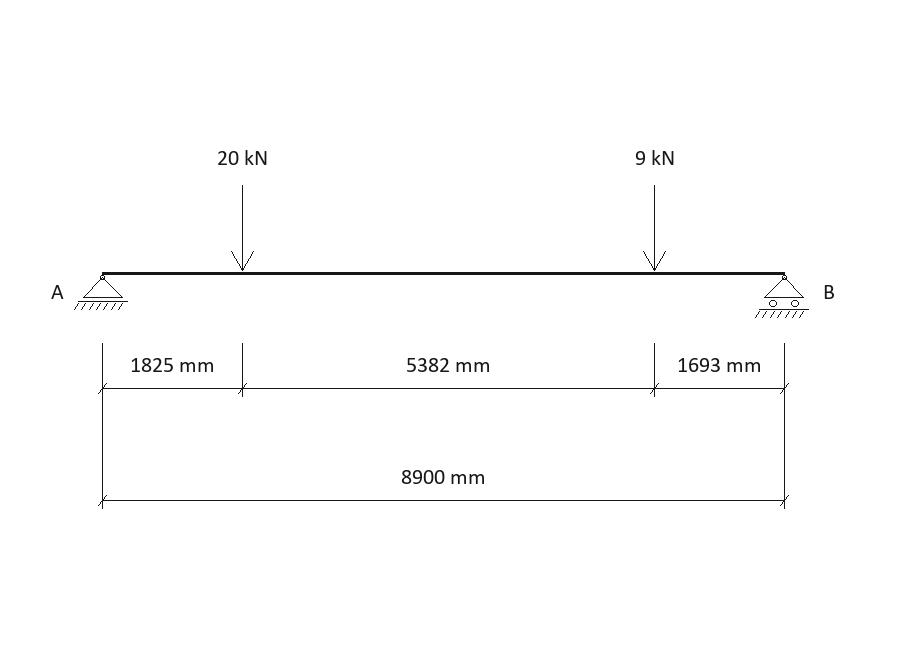pin_support: (74, 275, 128, 310)
point_load: (231, 185, 254, 271), (643, 185, 666, 271)
roller_support: (755, 275, 809, 318)
